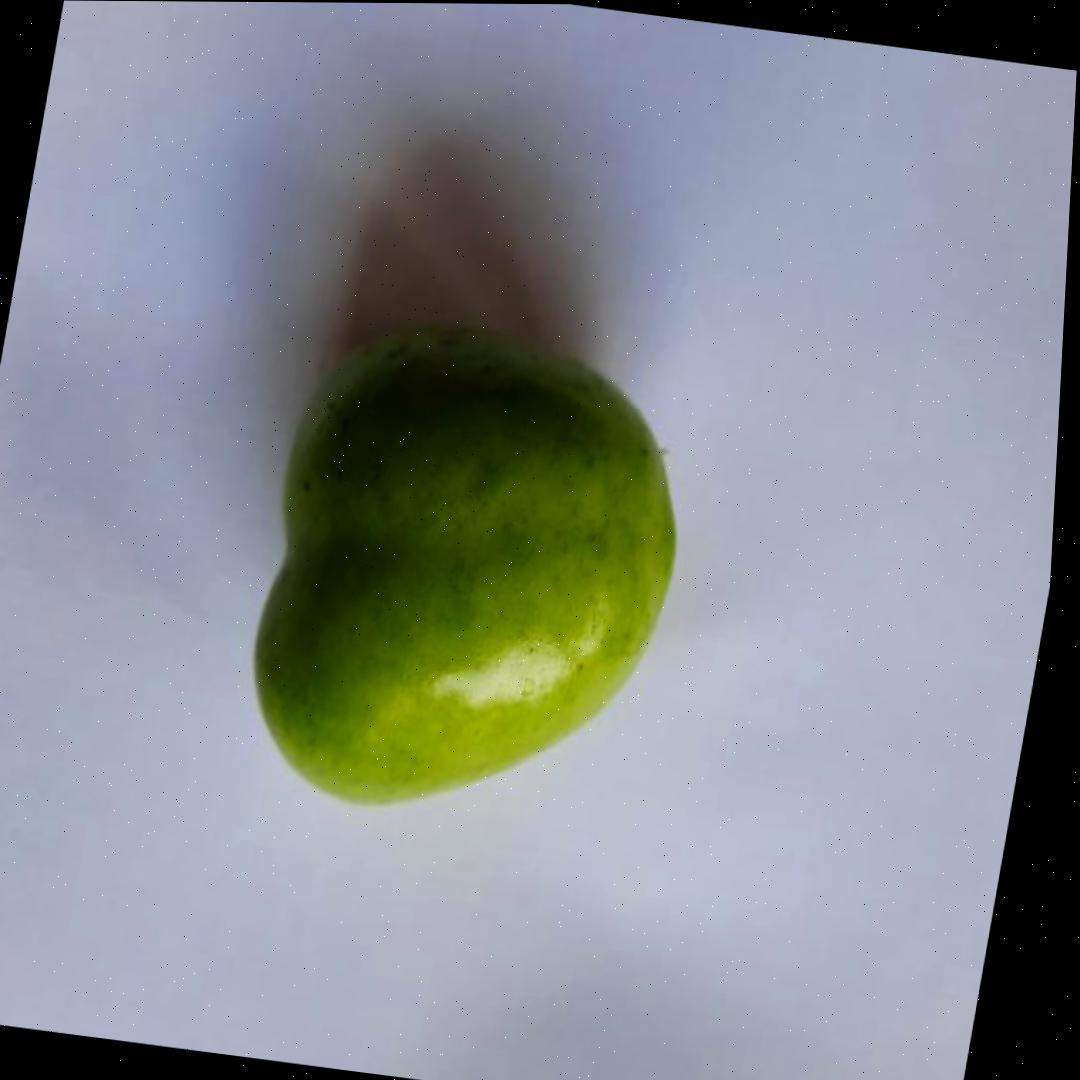mentah: (225, 311, 709, 838)
